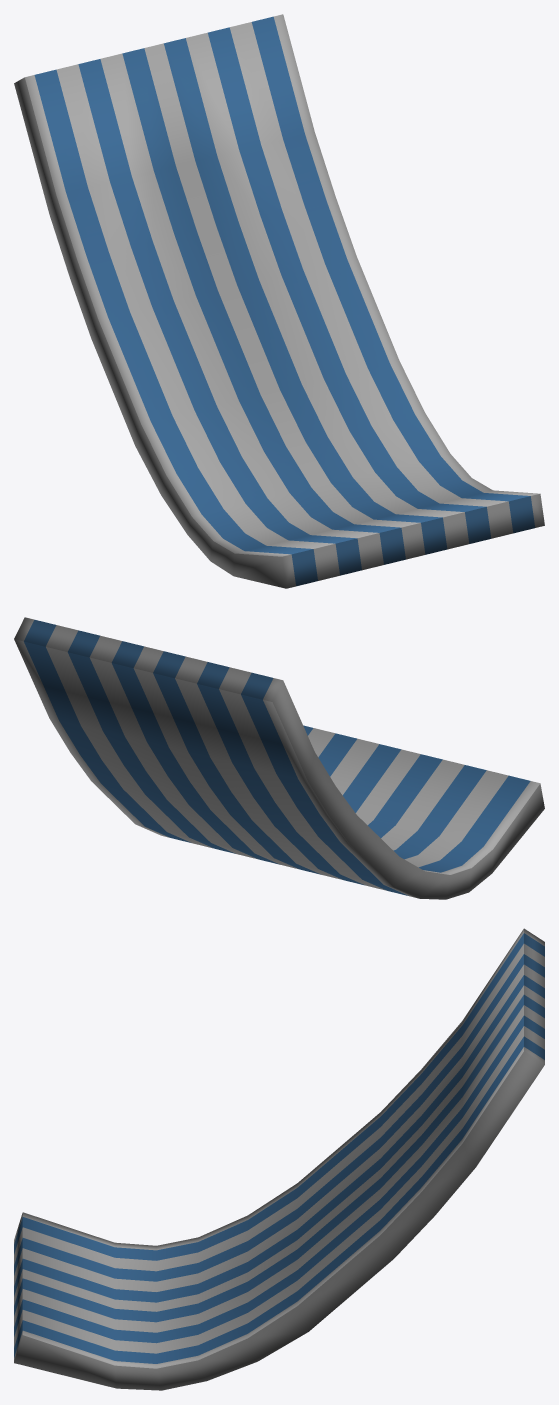
3 views of the same model, one above another, from view 1: azimuth 30°, elevation 25°; view 2: azimuth 150°, elevation 25°; view 3: azimuth 270°, elevation 25° (orthographic). The views are drawn at different scales.
Visible parts, largest first — view 1: color.008; view 2: color.008; view 3: color.008.
Part boxes in pixels (bbox=[...]): color.008: bbox=[14, 14, 544, 588]; color.008: bbox=[14, 617, 544, 899]; color.008: bbox=[14, 928, 544, 1390].
Bounding box in the file's own units: 0.2739 × 0.3525 × 0.5.
